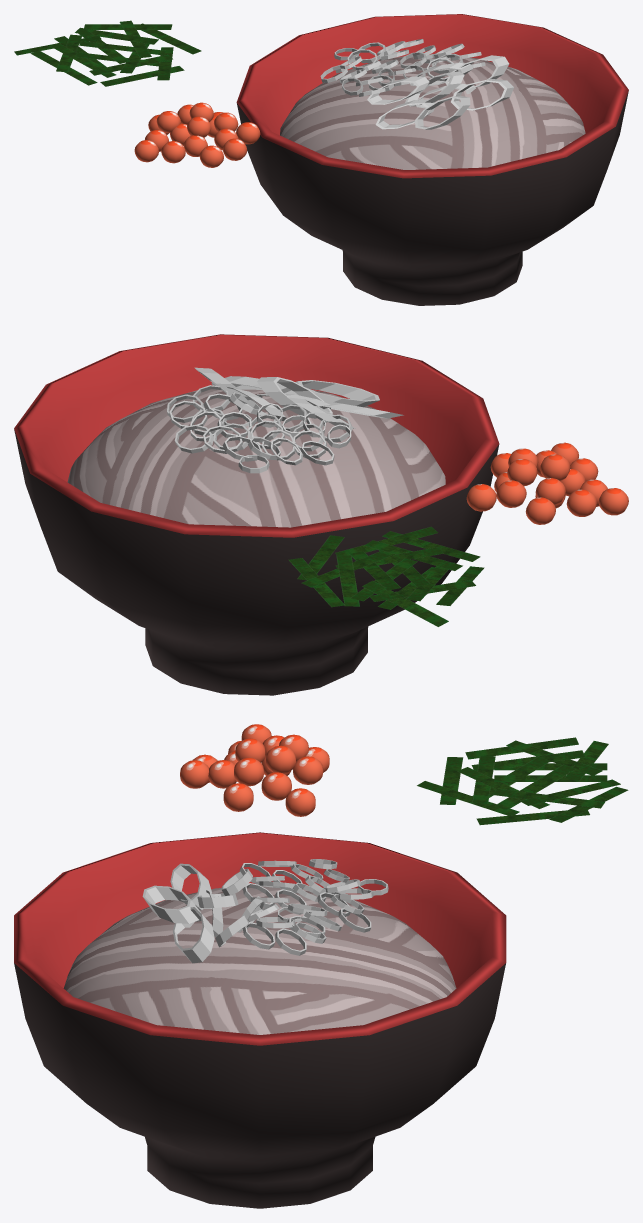
File: wannkosoba_owann.fbx
3 renders of one model, top to bottom at view 1: azimuth 30°, elevation 25°; view 2: azimuth 150°, elevation 25°; view 3: azimuth 270°, elevation 25°, orthographic. The views are drawn at different scales.
Parts seen in each view (by area): view 1: pCylinder1, pSphere1 (×2), pTorus2, pTorus11, pTorus22, pTorus19, pTorus20, pPlane16, pTorus21, pPlane13, pSphere4, pSphere16 (+9 smaller); view 2: pCylinder1, pSphere1, pTorus2, pTorus11, pPlane11, pPlane16, pPlane13, pPlane1, pSphere9, pSphere11, pSphere12, pSphere14 (+16 smaller); view 3: pCylinder1, pSphere1 (×2), pTorus2, pTorus19, pTorus21, pPlane9, pPlane8, pSphere6, pSphere9, pPlane16, pSphere11, pSphere8 (+7 smaller).
Part boxes in pixels (box(x1,y1,x2,y2)): pCylinder1: box(236, 14, 628, 305); pSphere1 (×2): box(222, 56, 585, 169); pTorus2: box(415, 95, 470, 129); pTorus11: box(405, 71, 464, 106); pTorus22: box(367, 76, 429, 104); pTorus19: box(451, 78, 513, 110); pTorus20: box(445, 55, 509, 87); pPlane16: box(75, 27, 158, 44); pTorus21: box(375, 99, 434, 129); pPlane13: box(84, 24, 172, 29); pSphere4: box(161, 141, 185, 163); pSphere16: box(134, 140, 158, 162); pCylinder1: box(14, 334, 499, 695); pSphere1: box(67, 389, 445, 527); pTorus2: box(284, 380, 379, 407); pTorus11: box(257, 377, 332, 418); pPlane11: box(362, 580, 448, 626); pPlane16: box(336, 555, 359, 606); pPlane13: box(288, 558, 344, 607); pPlane1: box(335, 526, 437, 555); pSphere9: box(466, 484, 496, 511); pSphere11: box(496, 480, 526, 507); pSphere12: box(566, 489, 596, 516); pSphere14: box(525, 497, 555, 524); pCylinder1: box(14, 832, 506, 1208); pSphere1 (×2): box(63, 760, 456, 1034); pTorus2: box(142, 885, 200, 923); pTorus19: box(173, 907, 214, 963); pTorus21: box(170, 863, 211, 910); pPlane9: box(465, 737, 578, 759); pPlane8: box(495, 764, 575, 810); pSphere6: box(223, 783, 253, 811); pSphere9: box(285, 788, 315, 816); pPlane16: box(520, 779, 620, 805); pSphere11: box(293, 756, 323, 784); pSphere8: box(261, 772, 291, 800).
Bounding box in the file's own units: 2.88 × 1.25 × 2.55.
